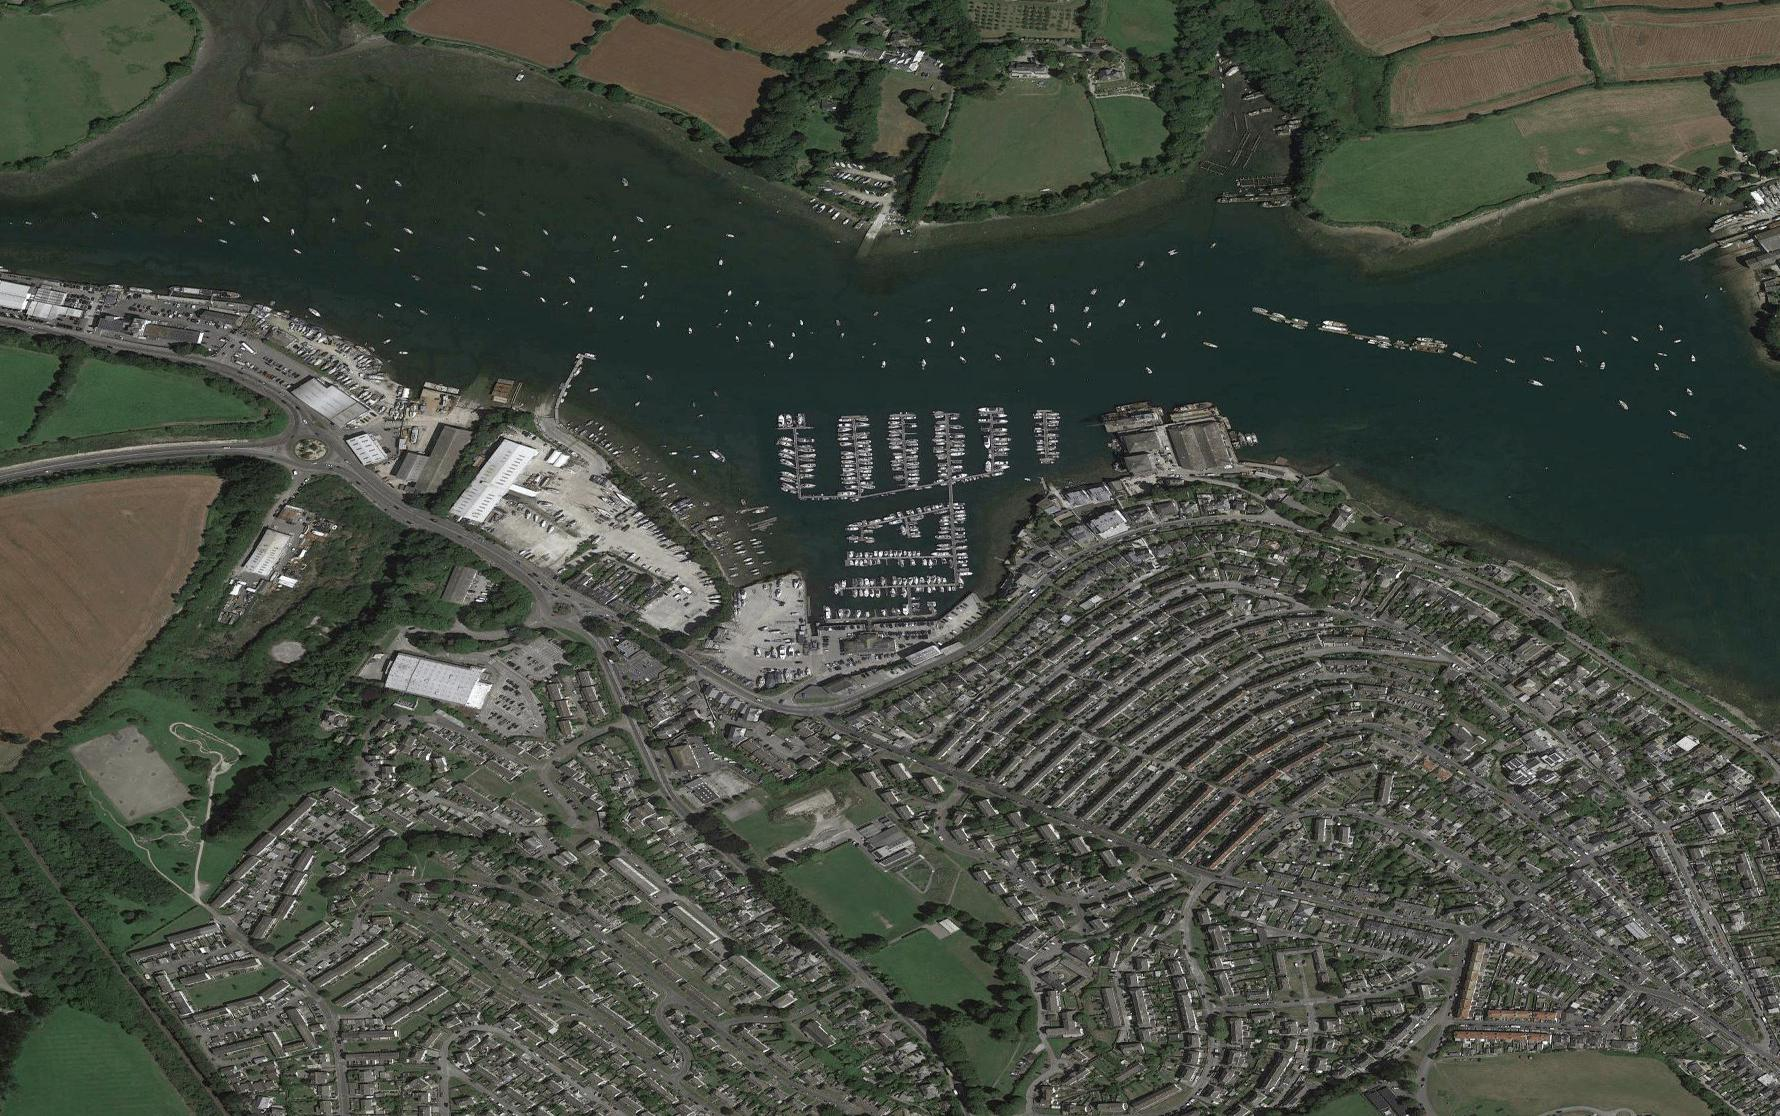harbor: (565, 339, 1119, 665)
